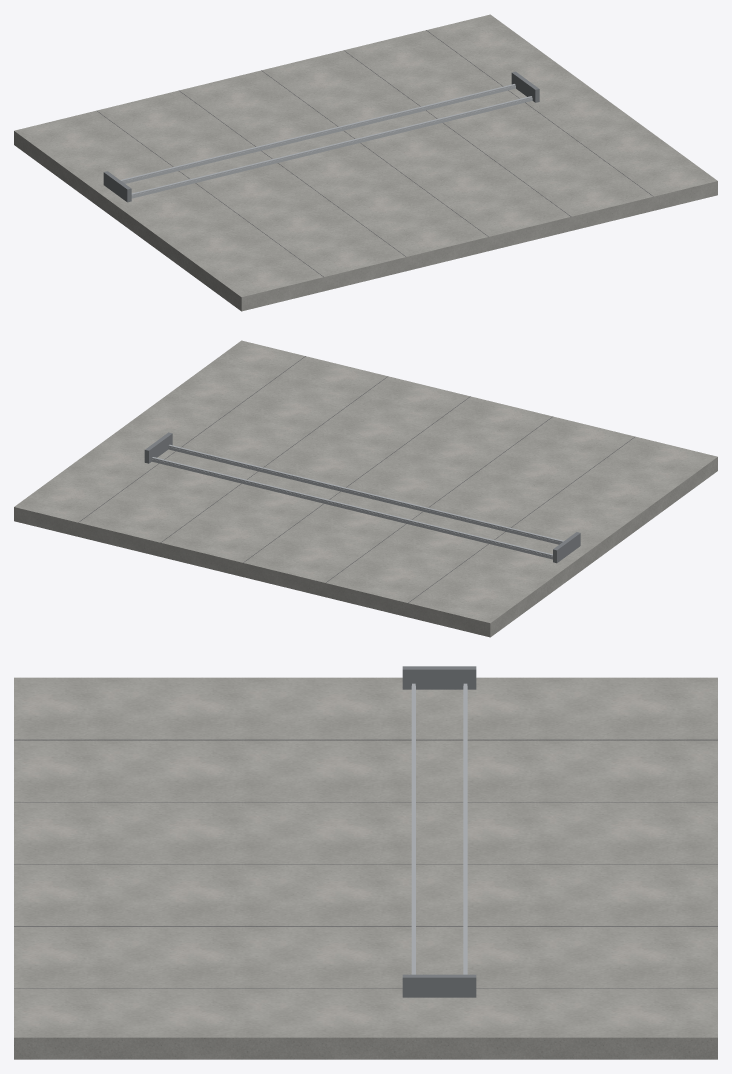
File: m_floor.glb
3 views of the same model, one above another, from view 1: azimuth 30°, elevation 25°; view 2: azimuth 150°, elevation 25°; view 3: azimuth 270°, elevation 25° (orthographic). The views are drawn at different scales.
Parts seen in each view (by area): view 1: m_floor_conc_f, m_floor_steel, m_floor_dark, m_floor_steel_d; view 2: m_floor_conc_f, m_floor_steel, m_floor_dark, m_floor_steel_d; view 3: m_floor_conc_f, m_floor_dark, m_floor_steel_d, m_floor_steel.
Part boxes in pixels (bbox=[...]): m_floor_conc_f: bbox=[14, 14, 717, 311]; m_floor_steel: bbox=[120, 84, 532, 198]; m_floor_dark: bbox=[96, 30, 653, 276]; m_floor_steel_d: bbox=[103, 71, 539, 202]; m_floor_conc_f: bbox=[14, 340, 717, 637]; m_floor_steel: bbox=[151, 444, 563, 559]; m_floor_dark: bbox=[78, 356, 635, 602]; m_floor_steel_d: bbox=[144, 432, 580, 563]; m_floor_conc_f: bbox=[14, 677, 717, 1059]; m_floor_dark: bbox=[14, 739, 717, 988]; m_floor_steel_d: bbox=[402, 666, 476, 997]; m_floor_steel: bbox=[411, 683, 467, 974].
Size of the model in its own units: 11.56 by 0.63 by 9.56.
4 materials, 1 textured.
